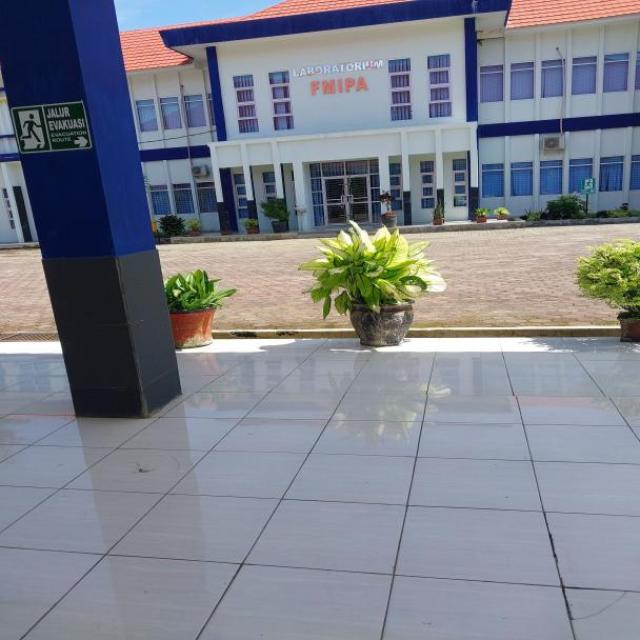plant ahead at: (296, 216, 446, 346), (163, 271, 240, 346)
